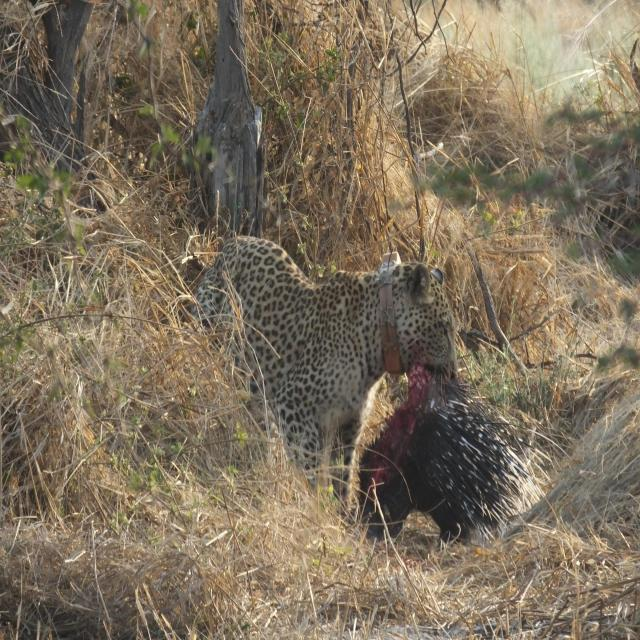Leopard: (191, 234, 458, 529)
